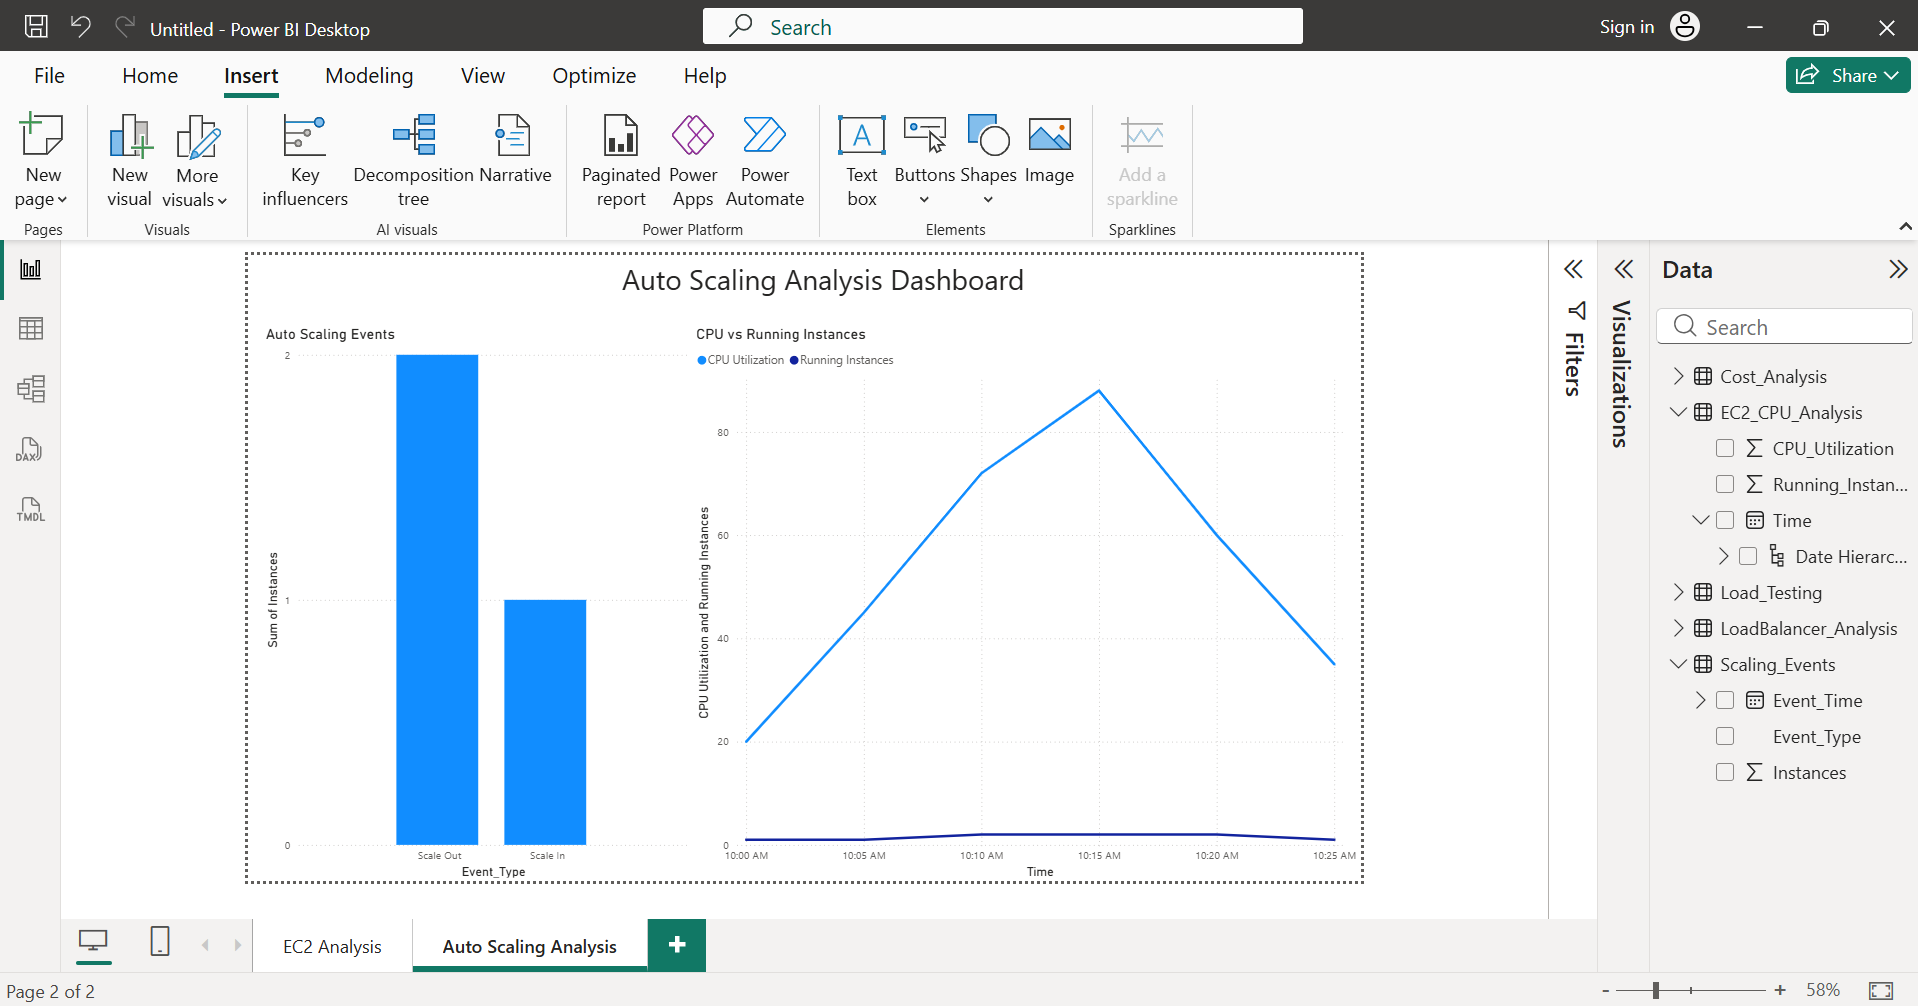

Layout of this report page (visuals, bound fields, positions):
{"tool":"powerbi","page":{"name":"Auto Scaling Analysis","canvas":[1280,720],"ordinal":1},"visuals":[{"type":"clusteredColumnChart","title":"Auto Scaling Events","fields":{"Category":["Scaling_Events.Event_Type"],"Y":["Sum(Scaling_Events.Instances)"]},"box":[15.5,81,494.8,639.7],"z":0},{"type":"textbox","box":[386.2,0,550,58.6],"z":1000},{"type":"lineChart","title":"CPU vs Running Instances","fields":{"Category":["EC2_CPU_Analysis.Time"],"Y":["Sum(EC2_CPU_Analysis.CPU_Utilization)","Sum(EC2_CPU_Analysis.Running_Instances)"]},"box":[510.3,81,769,639.7],"z":2000}]}

Visuals, with their boxes on the page's 1280x720 design canvas (x1, y1, x2, y2). These are canvas units, not pixel positions in the 1918x1006 screenshot, which may show the page scaled, cropped or inside an application window:
"Auto Scaling Events" clusteredColumnChart: Rect(16, 81, 510, 721)
textbox: Rect(386, 0, 936, 59)
"CPU vs Running Instances" lineChart: Rect(510, 81, 1279, 721)
